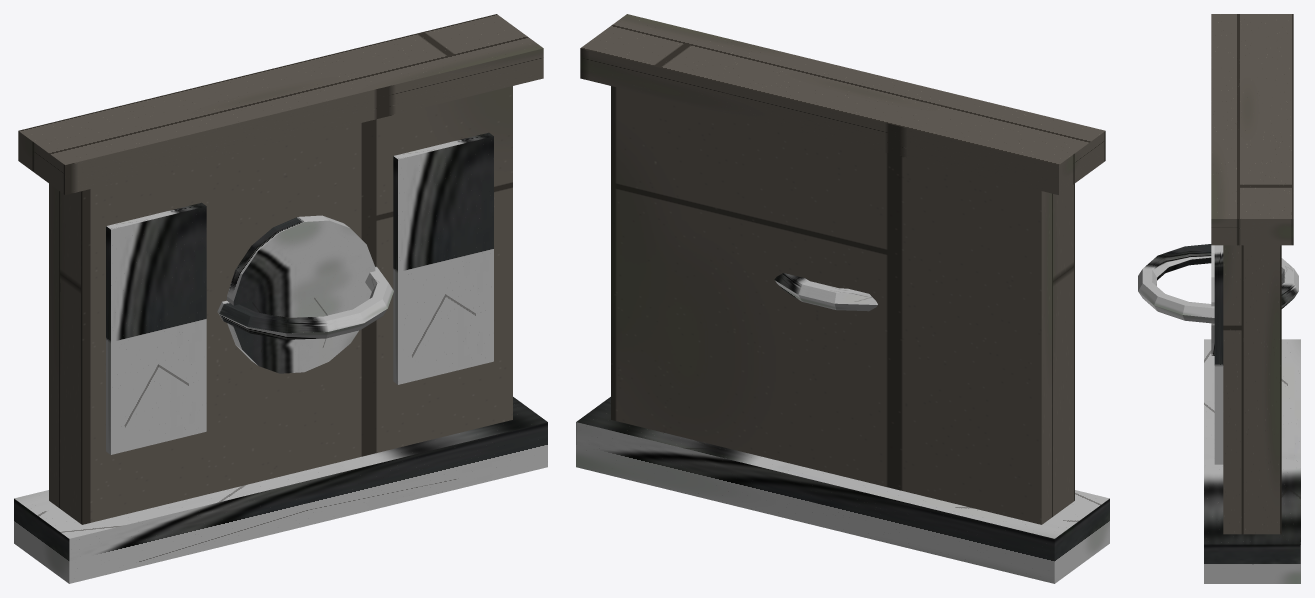
File: san-dinh-binh-phong-da.glb
3 renders of one model, left to right at view 1: azimuth 30°, elevation 25°; view 2: azimuth 150°, elevation 25°; view 3: azimuth 270°, elevation 25°, orthographic. The views are drawn at different scales.
Parts seen in each view (by area): view 1: san-dinh-binh-phong-da; view 2: san-dinh-binh-phong-da; view 3: san-dinh-binh-phong-da.
Boxes of the visible parts, box(x1,y1,x2,y2) form: san-dinh-binh-phong-da: box(14, 14, 547, 583); san-dinh-binh-phong-da: box(576, 14, 1109, 583); san-dinh-binh-phong-da: box(1138, 14, 1300, 583).
Size of the model in its own units: 2 by 1.66 by 0.6715.
2 materials, 2 textured.
